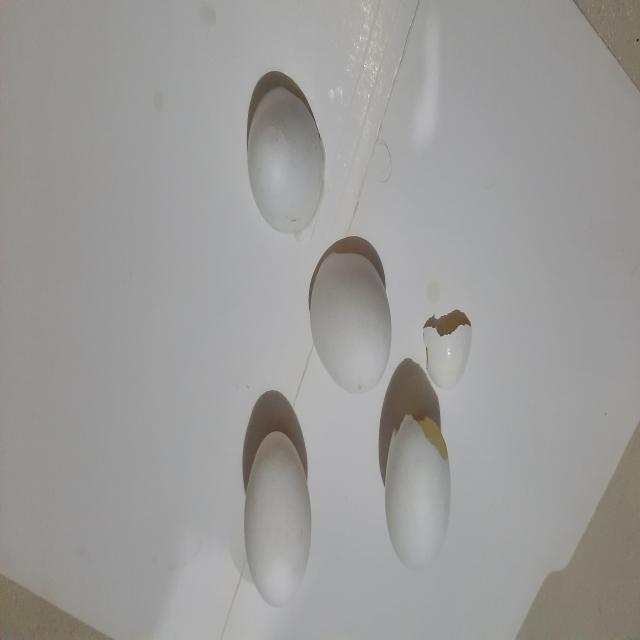egg shell: (242, 66, 331, 252), (240, 414, 316, 616), (377, 404, 457, 584), (306, 244, 396, 400), (421, 306, 474, 398)
